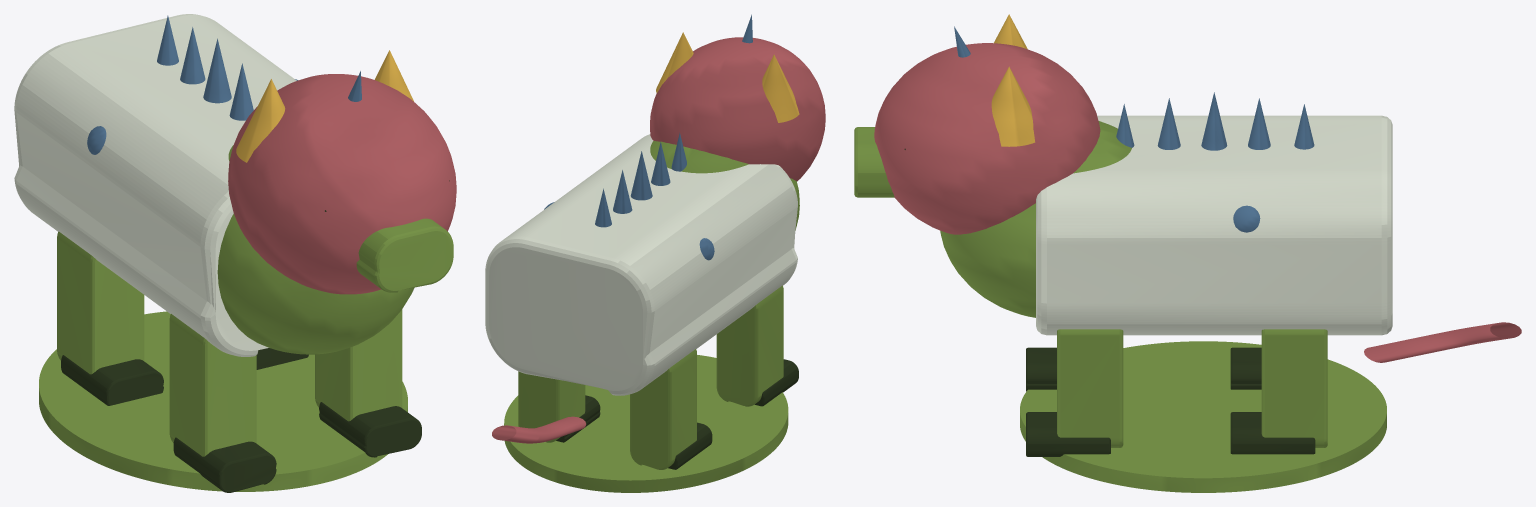
File: 1301_爬行动物图鉴_钩盲蛇.glb
3 views of the same model, side by side, from view 1: azimuth 30°, elevation 25°; view 2: azimuth 150°, elevation 25°; view 3: azimuth 270°, elevation 25° (orthographic). The views are drawn at different scales.
Parts seen in each view (by area): view 1: card_1301; view 2: card_1301; view 3: card_1301.
Part boxes in pixels (bbox=[...]): card_1301: bbox=[14, 14, 456, 492]; card_1301: bbox=[485, 14, 825, 492]; card_1301: bbox=[854, 14, 1521, 492].
Bounding box in the file's own units: 0.737 × 1 × 1.52.
